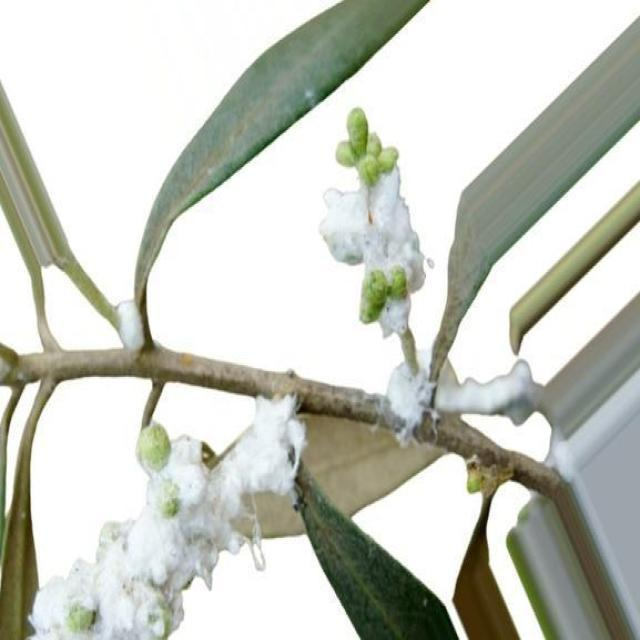Psyllid: (318, 108, 532, 442), (29, 396, 306, 638)
